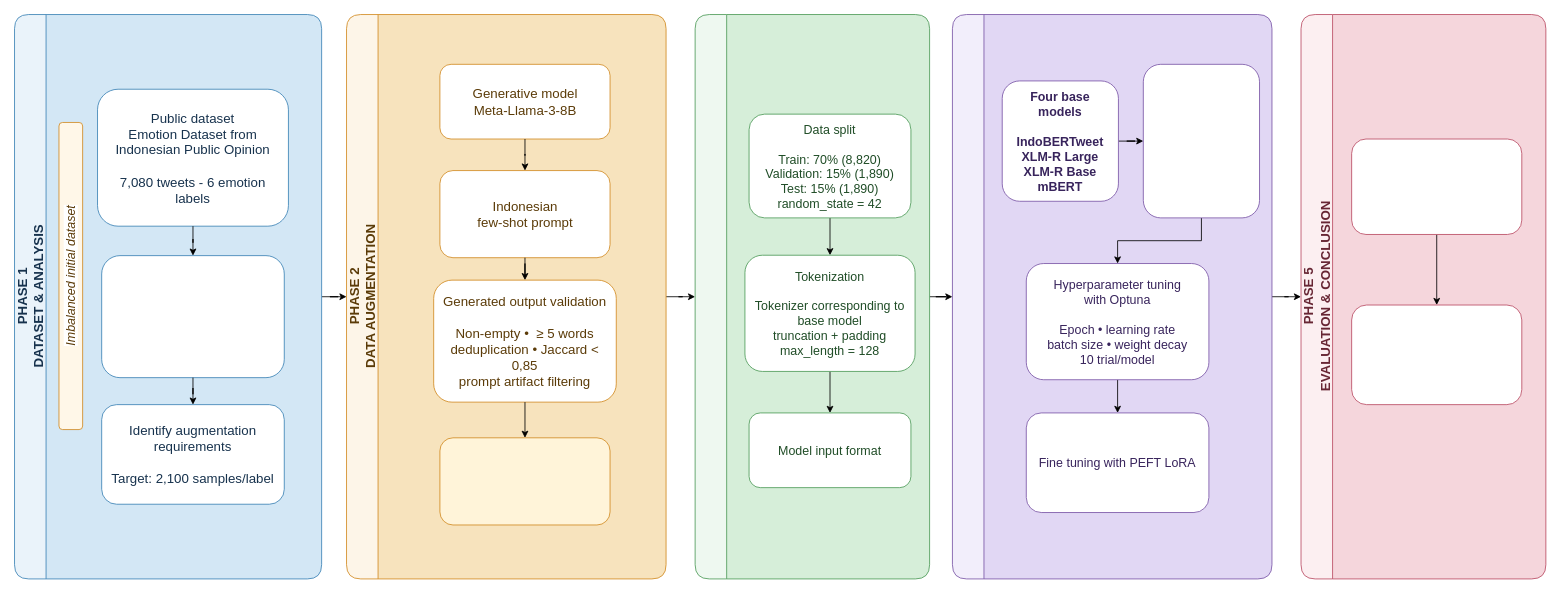
Some shapes in this 1560 by 593 pixel diagram are drawn without their labels. The box of each missing label's shape, as (x1, y1, x2, y2) in pixels:
Augmented dataset 12,600 tweets 2,100 tweets per label: (439, 437, 610, 525)
Evaluation on test set Accuracy • Precision Recall • Macro-F1 Confusion matrix: (1351, 138, 1522, 234)
Four-model comparison Performance and PEFT-LoRA efficiency analysis: (1351, 304, 1522, 405)
Label distribution analysis anger • fear • joy love • neutral • sad: (101, 255, 284, 378)
LoRA configuration r = 8 α = 32 dropout = 0,1 target: query, value Task: SEQ_CLS: (1142, 63, 1260, 218)
PHASE 3 DATA PREPARATION: (694, 14, 930, 579)
PHASE 4 PEFT EXPERIMENTS: (952, 14, 1272, 579)
